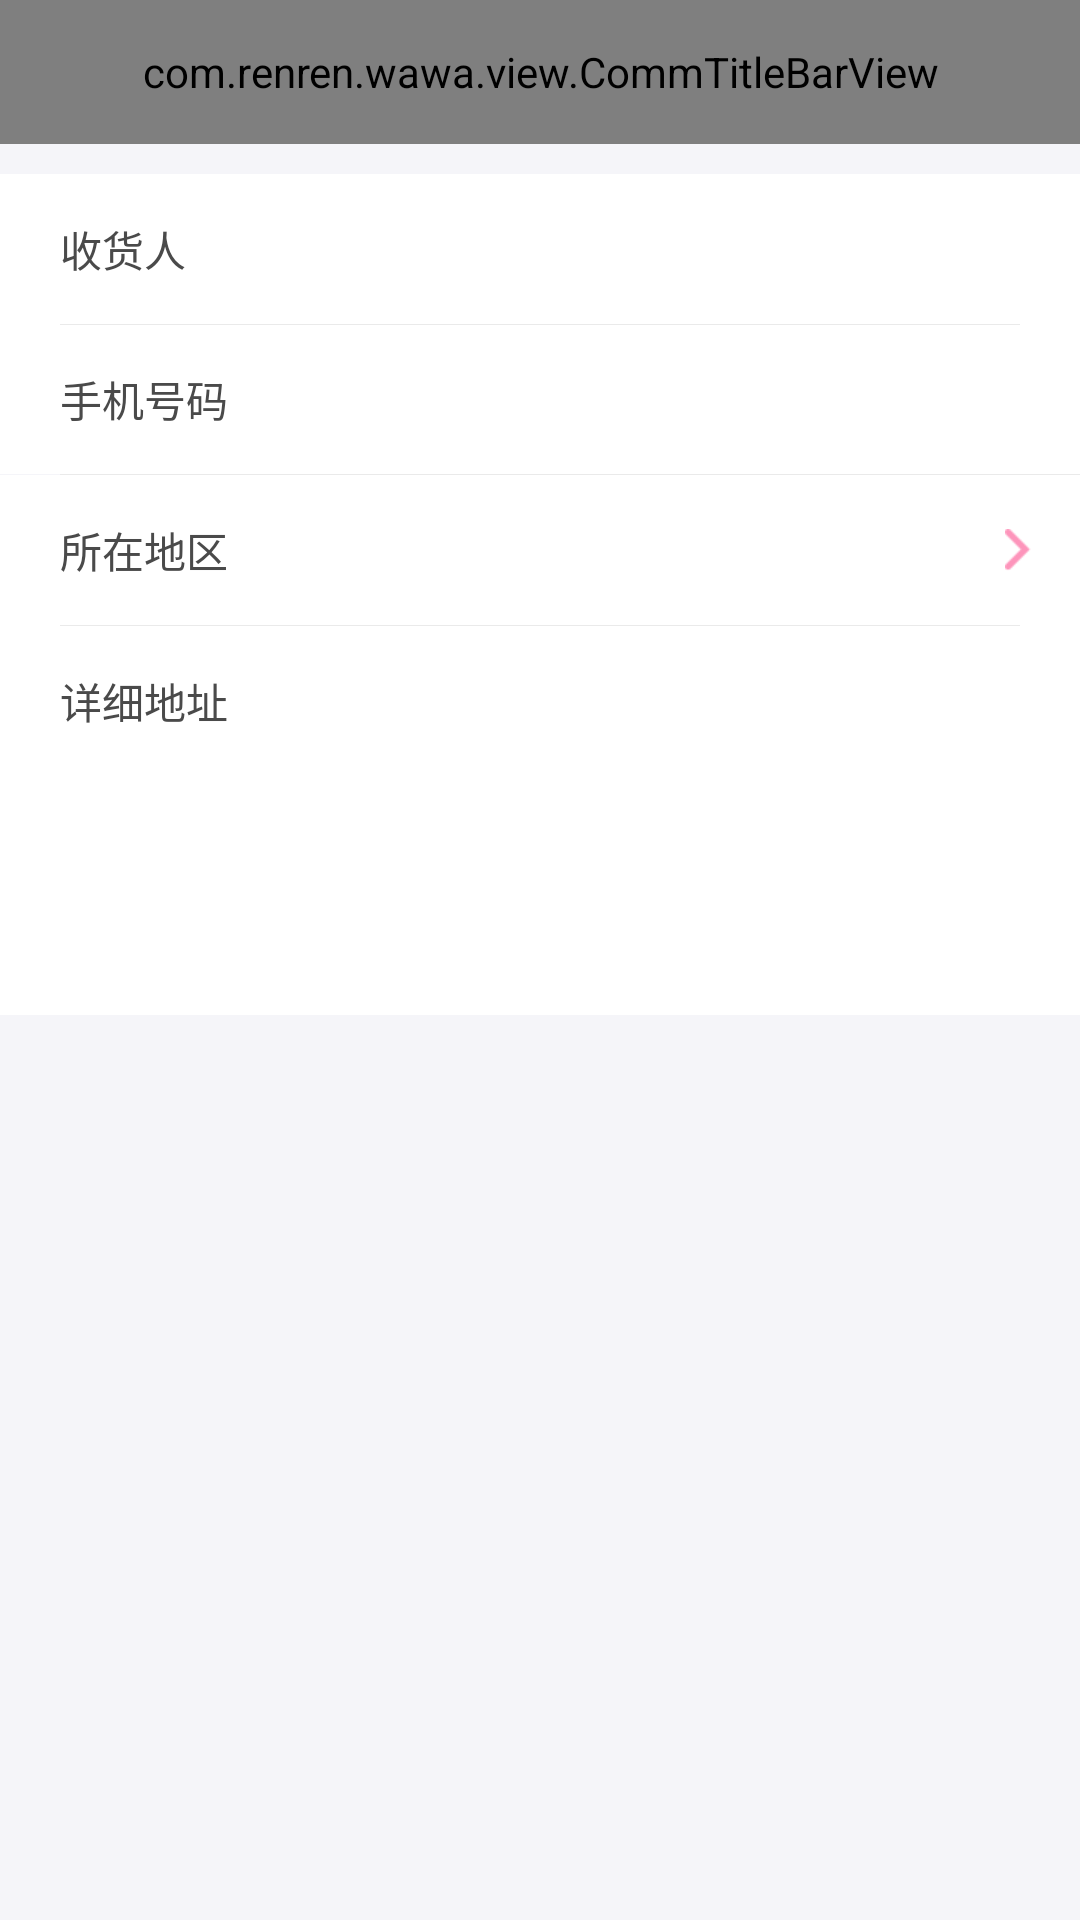

Where icons sit on this 1080 × 1920 app screen, as (x1, y1, x2, y2):
comm arrow: (1005, 529, 1030, 570)
